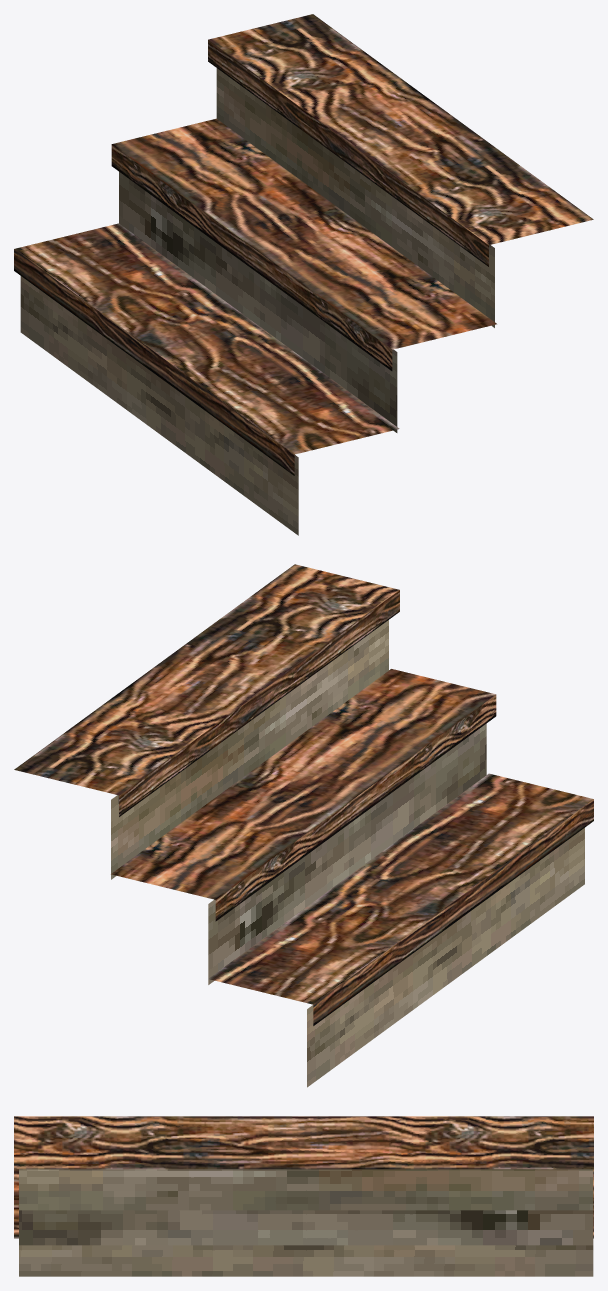
Rendered from LAKETOWN_PUB_PS_PUB_STAIR28.fbx.
3 renders of one model, top to bottom at view 1: azimuth 30°, elevation 25°; view 2: azimuth 150°, elevation 25°; view 3: azimuth 270°, elevation 25°, orthographic. The views are drawn at different scales.
Visible parts, largest first — view 1: LAKETOWN_PUB_PS_PUB_STAIR28; view 2: LAKETOWN_PUB_PS_PUB_STAIR28; view 3: LAKETOWN_PUB_PS_PUB_STAIR28.
Boxes of the visible parts, bbox=[...] form: LAKETOWN_PUB_PS_PUB_STAIR28: bbox=[14, 14, 593, 535]; LAKETOWN_PUB_PS_PUB_STAIR28: bbox=[14, 564, 593, 1087]; LAKETOWN_PUB_PS_PUB_STAIR28: bbox=[14, 1116, 593, 1276].
Size of the model in its own units: 10253 by 8080 by 16674.
Materials: 2 (2 with a texture image).
